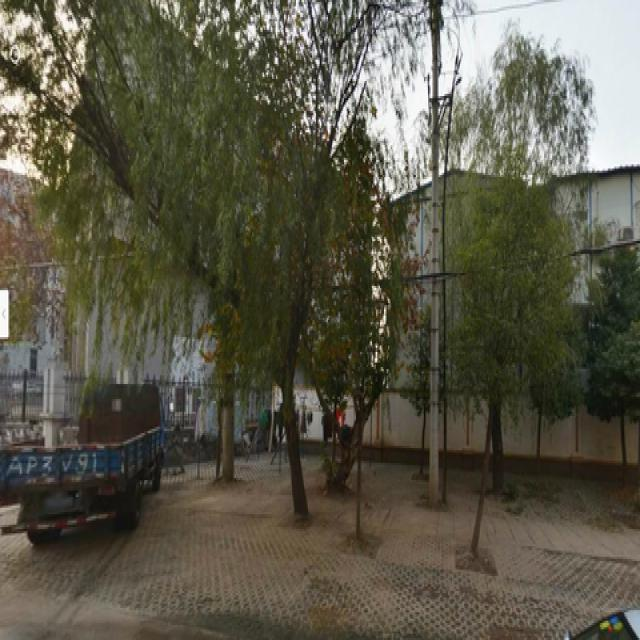plat: (144, 24, 340, 538), (467, 68, 552, 525)
